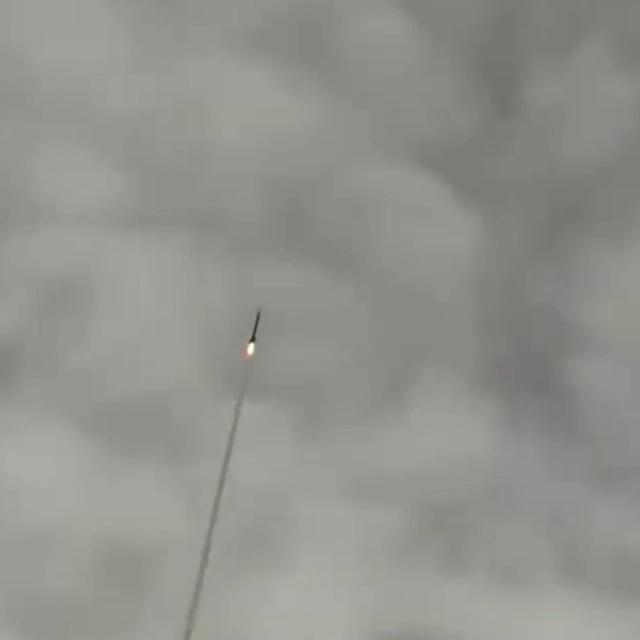smoke_trail_with_rocket: (183, 309, 263, 640)
